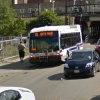Bus: (23, 22, 81, 56)
